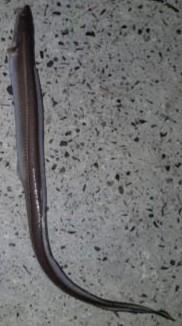fish: (7, 4, 176, 322)
